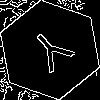Y: (25, 25, 83, 82)
